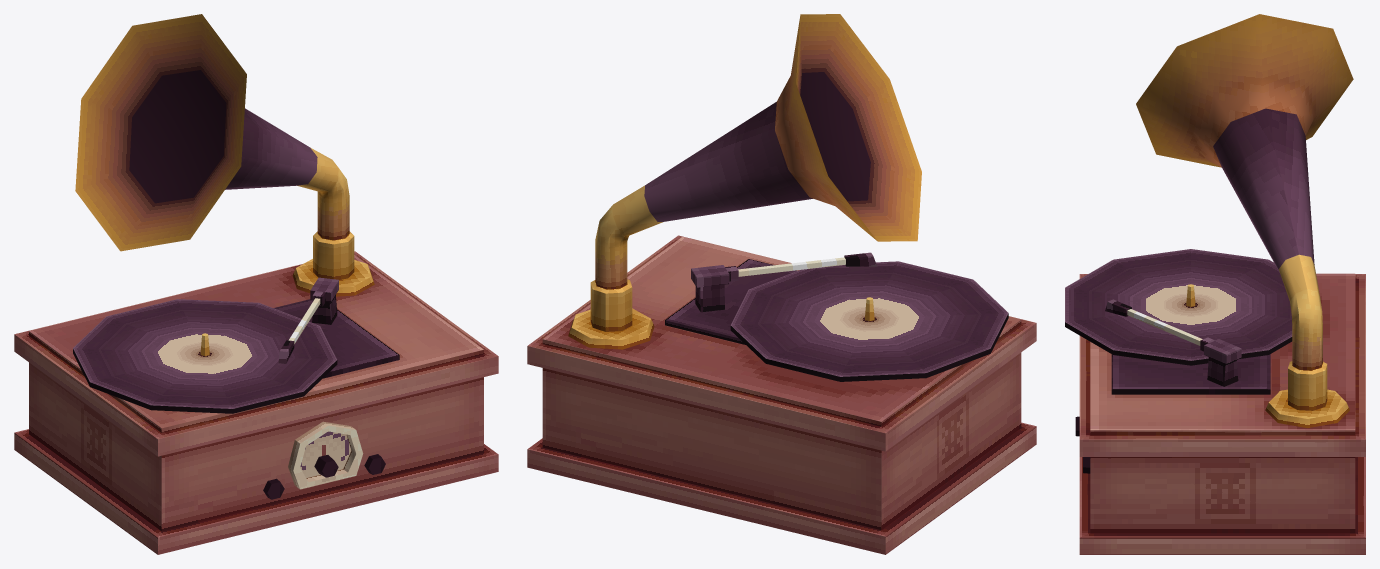
Rendered from player.glb.
3 renders of one model, left to right at view 1: azimuth 30°, elevation 25°; view 2: azimuth 150°, elevation 25°; view 3: azimuth 270°, elevation 25°, orthographic. The views are drawn at different scales.
Parts seen in each view (by area): view 1: Record_Player; view 2: Record_Player; view 3: Record_Player.
Boxes of the visible parts, x1,y1,x2,y2 form: Record_Player: [14, 14, 498, 554]; Record_Player: [527, 14, 1036, 554]; Record_Player: [1065, 14, 1365, 554].
Size of the model in its own units: 0.0383 by 0.0459 by 0.0284.
Materials: 1 (1 with a texture image).
